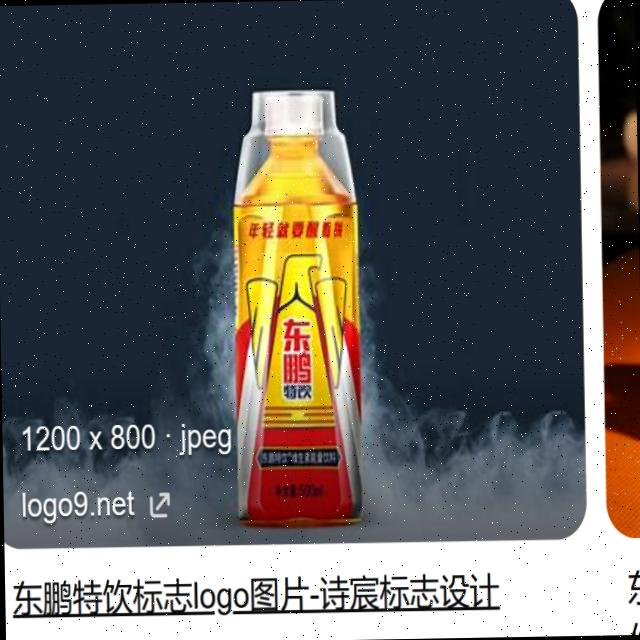dongpeng_special: (246, 250, 352, 430)
